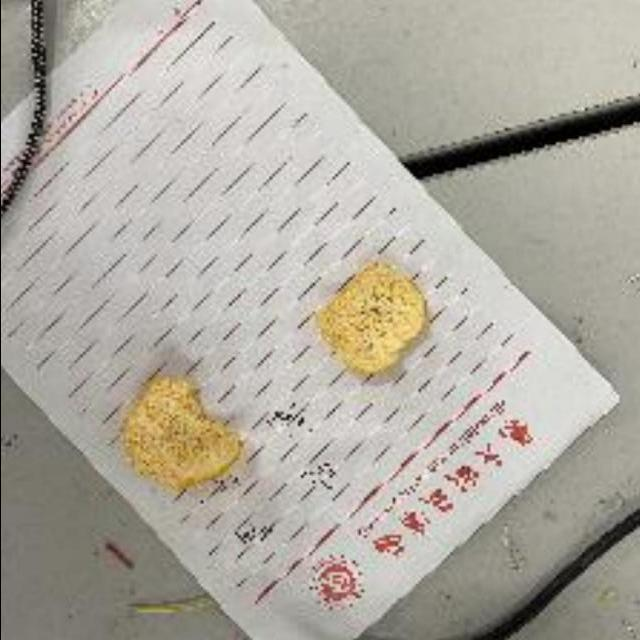orange peel: (108, 366, 238, 499), (312, 255, 433, 387)
